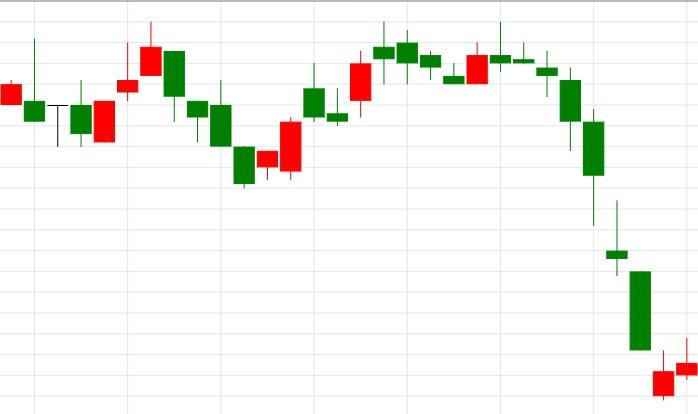bullish_engulfing_rise: (372, 21, 489, 85)
three_white_soldiers_rise: (0, 21, 163, 147)
